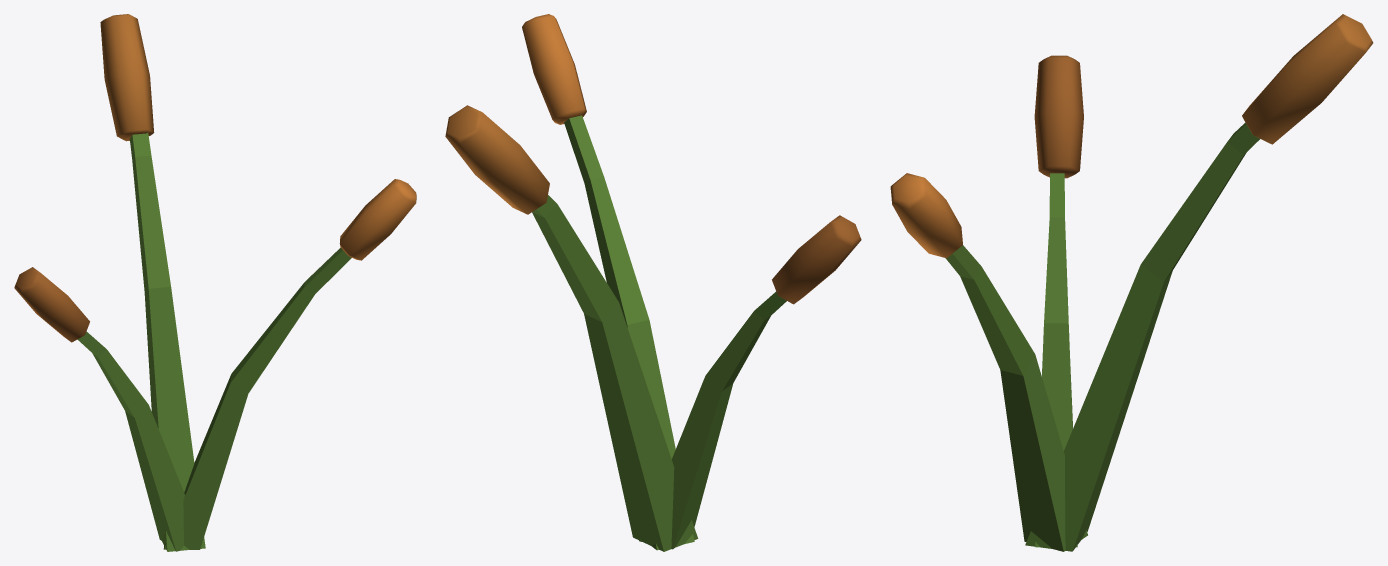
The model's file is Grass_04.fbx.
3 views of the same model, side by side, from view 1: azimuth 30°, elevation 25°; view 2: azimuth 150°, elevation 25°; view 3: azimuth 270°, elevation 25° (orthographic). The views are drawn at different scales.
Visible parts, largest first — view 1: Grass_04; view 2: Grass_04; view 3: Grass_04.
Part boxes in pixels (x1,y1,x2,y2): Grass_04: (14, 14, 416, 551); Grass_04: (445, 14, 861, 551); Grass_04: (890, 14, 1373, 551).
Size of the model in its own units: 58.06 by 70.58 by 56.08.
